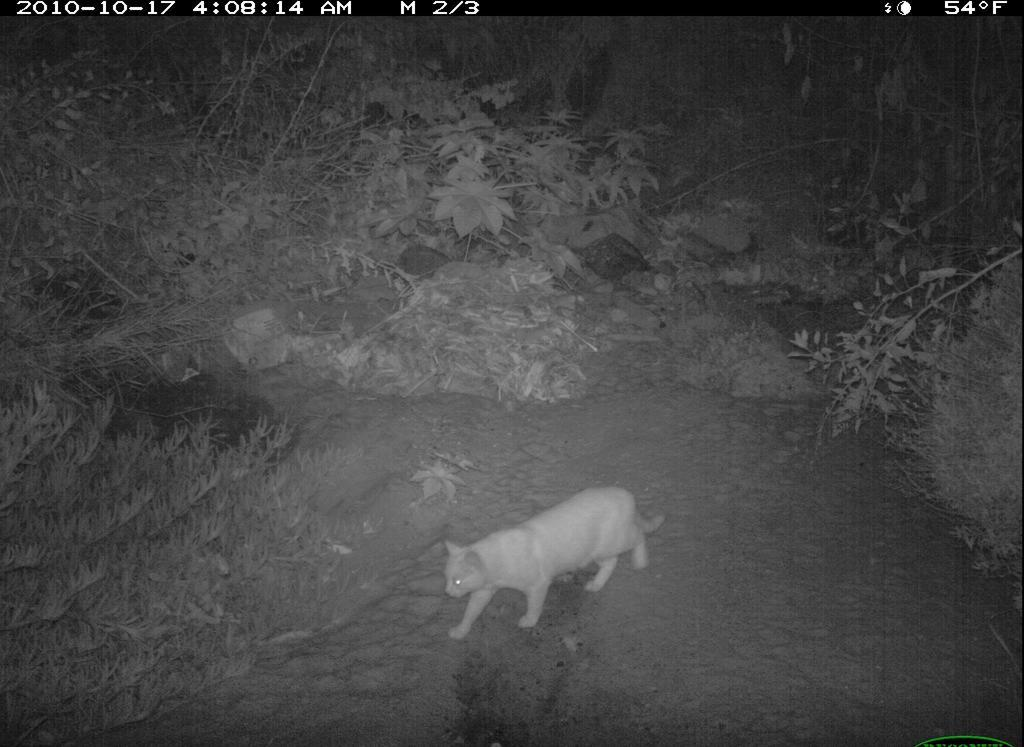cat: (437, 474, 671, 644)
